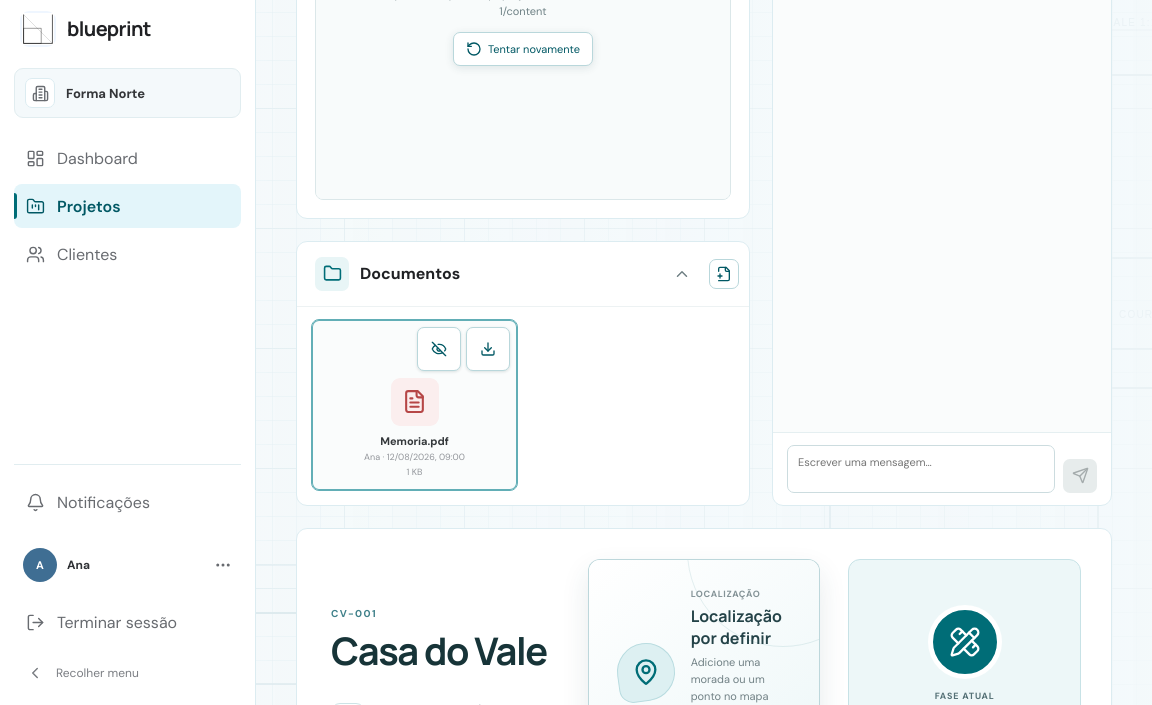
CompanyProjectPage › sends the desired visibility and merges the full server response without selecting the document
The width and height of the screenshot is (1152, 705).
(page scrolled)
Step 1. Click the button named "Mostrar Memoria.pdf aos clientes" → (439, 348), box left=417, top=326, right=461, bottom=370
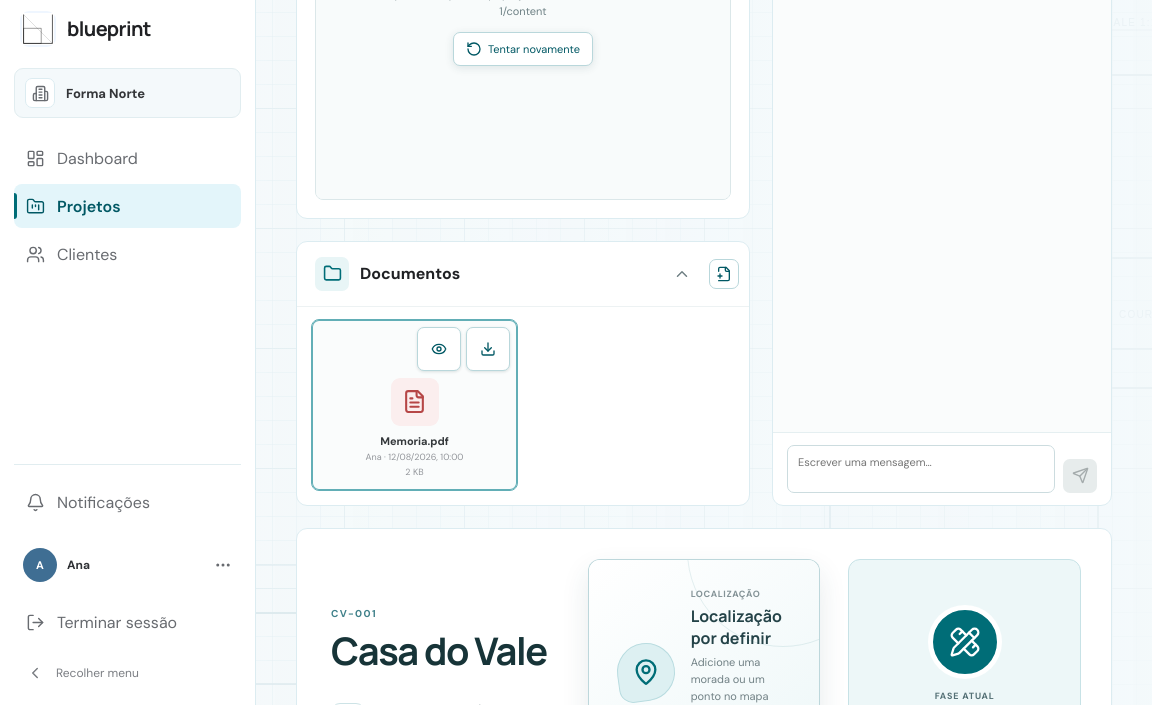
Result: the text "2 KB" is shown at left=405, top=466, right=424, bottom=478
